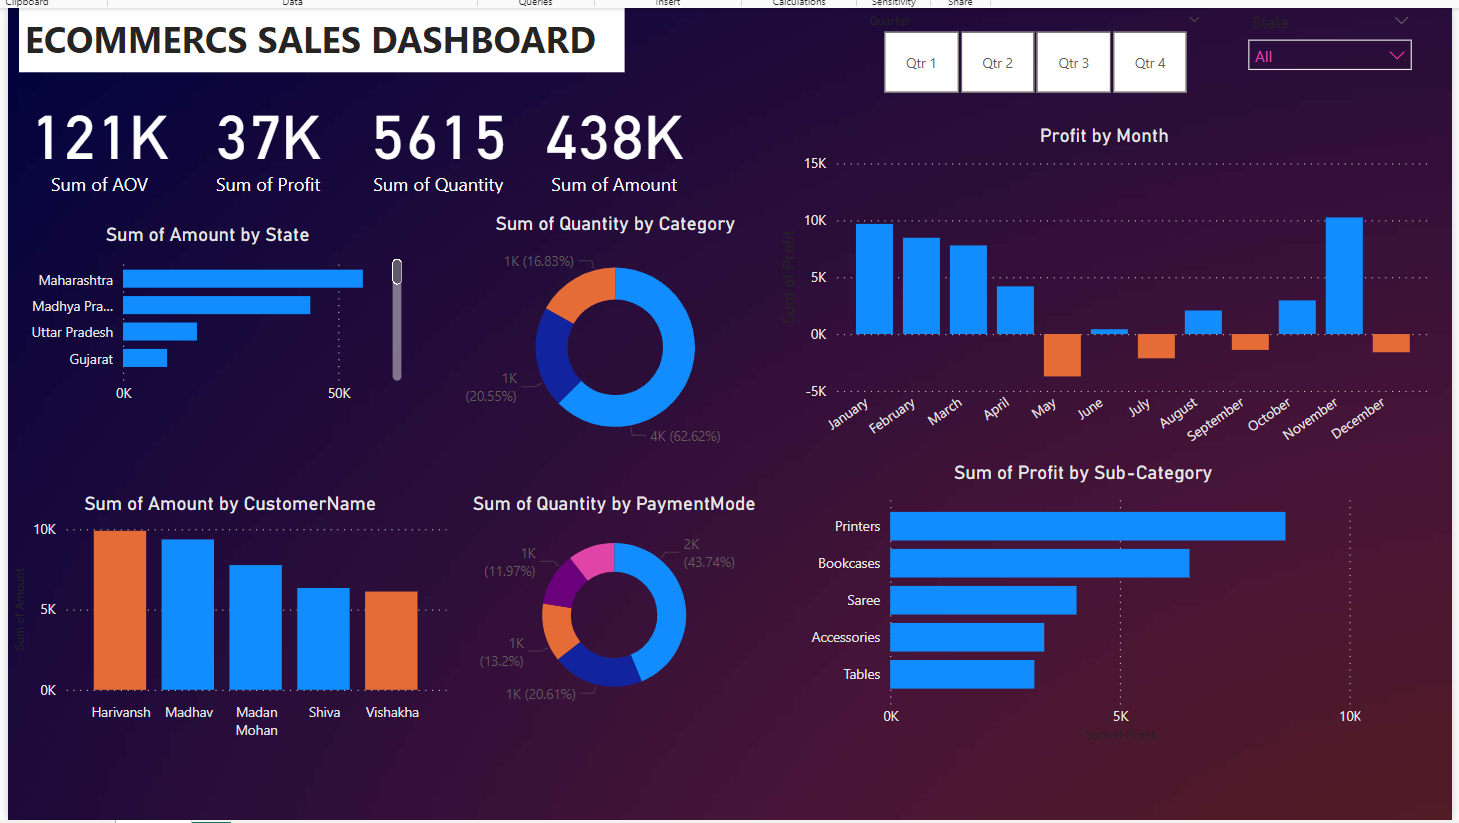

What the dashboard file says about the page in this screenshot:
{"tool":"powerbi","page":{"name":"Page 1","canvas":[1280,720],"ordinal":0},"visuals":[{"type":"textbox","box":[9.6,0,536.7,56.7],"z":0},{"type":"clusteredColumnChart","title":"Profit by Month","fields":{"Y":["Details.Profit"],"Category":["Orders.Order Date.Variation.Date Hierarchy.Month"]},"box":[679.2,102.9,585.9,304.6],"z":1000},{"type":"barChart","fields":{"Category":["Details.Sub-Category"],"Y":["Details.Profit"]},"box":[702.6,402.1,502.2,253.9],"z":2000},{"type":"donutChart","fields":{"Category":["Details.Category"],"Y":["Details.Quantity"]},"box":[393.8,181.1,289.5,220.9],"z":3000},{"type":"donutChart","fields":{"Category":["Details.PaymentMode"],"Y":["Details.Quantity"]},"box":[395.2,429.5,284,199],"z":4000},{"type":"card","fields":{"Values":["Details.Amount"]},"box":[459.7,67.2,156.4,101.5],"z":5000},{"type":"card","fields":{"Values":["Details.Quantity"]},"box":[303.3,67.2,156.4,101.5],"z":6000},{"type":"card","fields":{"Values":["Details.Profit"]},"box":[152.3,67.2,156.4,101.5],"z":7000},{"type":"card","fields":{"Values":["Details.AOV"]},"box":[9.6,67.2,142.7,101.5],"z":8000},{"type":"barChart","fields":{"Category":["Orders.State"],"Y":["Details.Amount"]},"box":[0,190.7,354,168.8],"z":9000},{"type":"columnChart","fields":{"Category":["Orders.CustomerName"],"Y":["Details.Amount"]},"box":[0,429.5,393.8,226.4],"z":10000},{"type":"slicer","fields":{"Values":["Orders.Order Date.Variation.Date Hierarchy.Quarter"]},"box":[750.6,0,318.4,82.3],"z":11000},{"type":"slicer","fields":{"Values":["Orders.State"]},"box":[1089.5,0,164.7,102.9],"z":11001}]}

Visuals, with their boxes on the page's 1280x720 design canvas (x1, y1, x2, y2). These are canvas units, not pixel positions in the 1459x823 screenshot, which may show the page scaled, cropped or inside an application window:
textbox: region(10, 0, 546, 57)
"Profit by Month" clusteredColumnChart: region(679, 103, 1265, 408)
barChart - Details.Sub-Category x Details.Profit: region(703, 402, 1205, 656)
donutChart - Details.Category x Details.Quantity: region(394, 181, 683, 402)
donutChart - Details.PaymentMode x Details.Quantity: region(395, 430, 679, 628)
card - Details.Amount: region(460, 67, 616, 169)
card - Details.Quantity: region(303, 67, 460, 169)
card - Details.Profit: region(152, 67, 309, 169)
card - Details.AOV: region(10, 67, 152, 169)
barChart - Orders.State x Details.Amount: region(0, 191, 354, 360)
columnChart - Orders.CustomerName x Details.Amount: region(0, 430, 394, 656)
slicer - Orders.Order Date.Variation.Date Hierarchy.Quarter: region(751, 0, 1069, 82)
slicer - Orders.State: region(1090, 0, 1254, 103)
